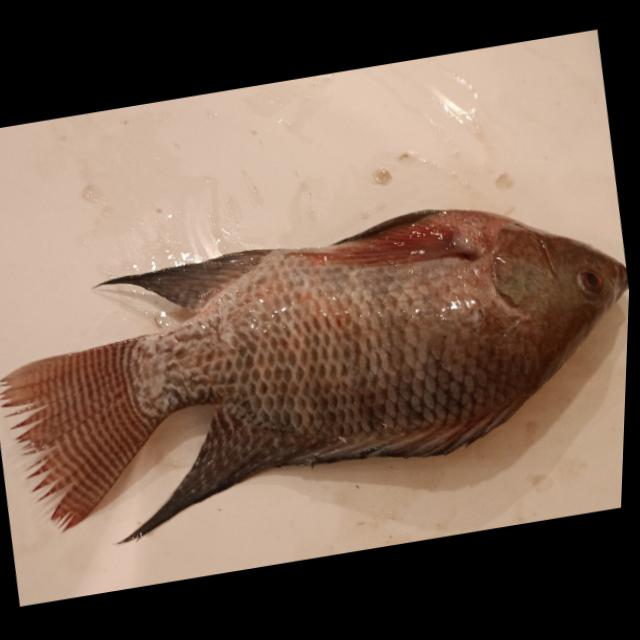Tilapia: (0, 178, 633, 558)
